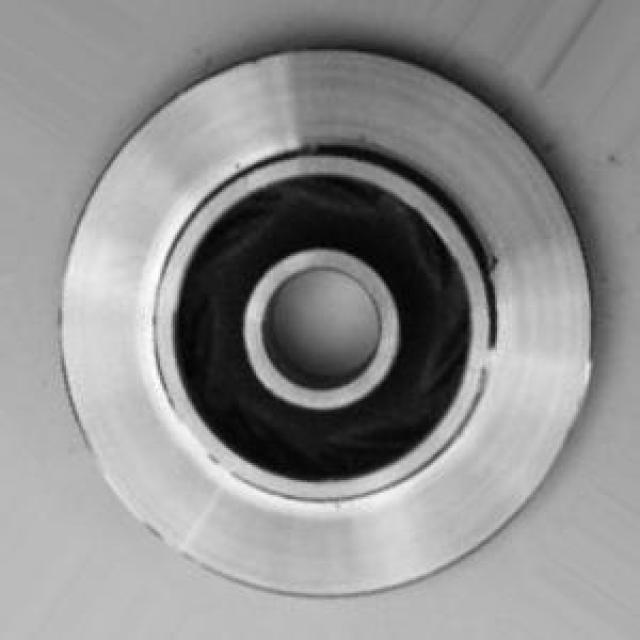Defect: (483, 249, 510, 280)
